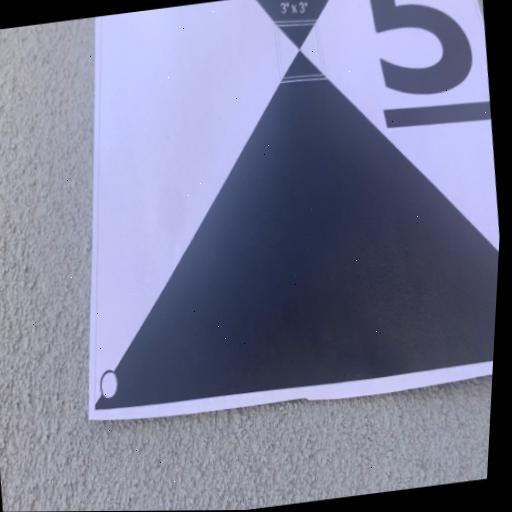target5: (90, 0, 499, 422)
